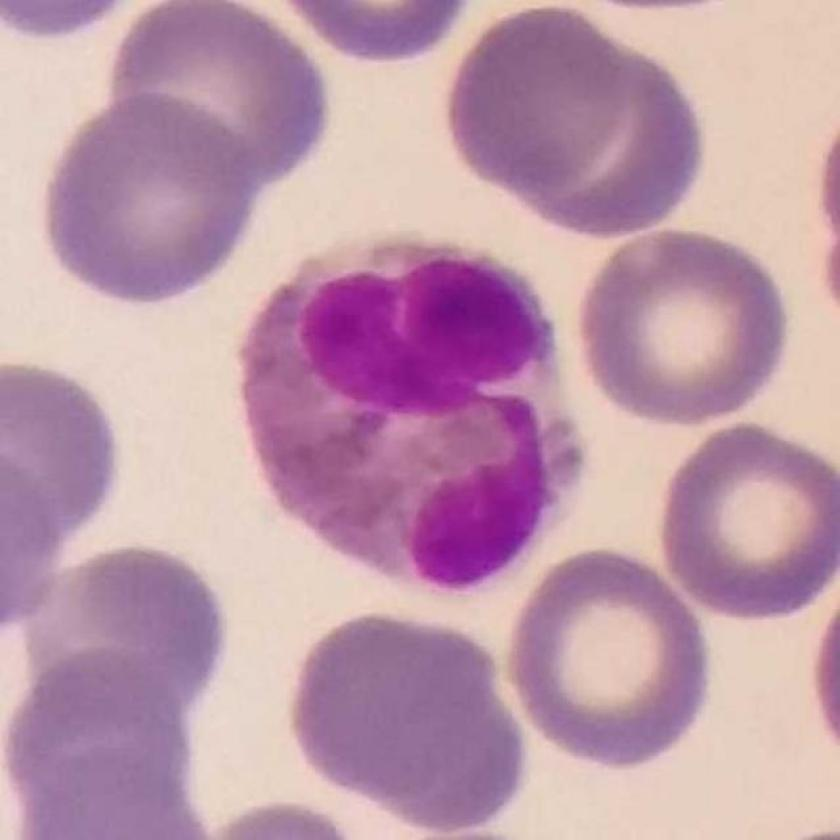eosinophil: (242, 231, 587, 593)
